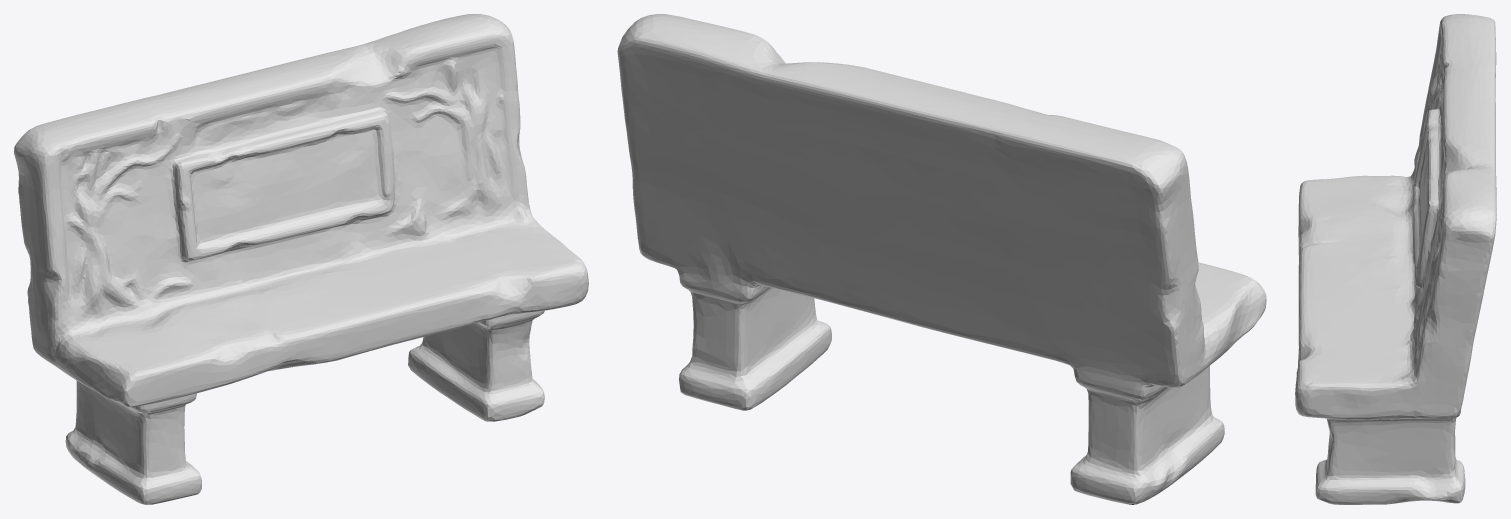
File: memorial01.glb
The picture shows the model from 3 angles, left to right: view 1: azimuth 30°, elevation 25°; view 2: azimuth 150°, elevation 25°; view 3: azimuth 270°, elevation 25°; orthographic projection. The views are drawn at different scales.
Parts seen in each view (by area): view 1: Low; view 2: Low; view 3: Low.
Boxes of the visible parts, <box> form: Low: <box>14,14,588,504</box>; Low: <box>617,14,1266,504</box>; Low: <box>1295,14,1496,504</box>.
Size of the model in its own units: 1.99 by 1.32 by 0.775.
Materials: 1 (1 with a texture image).
